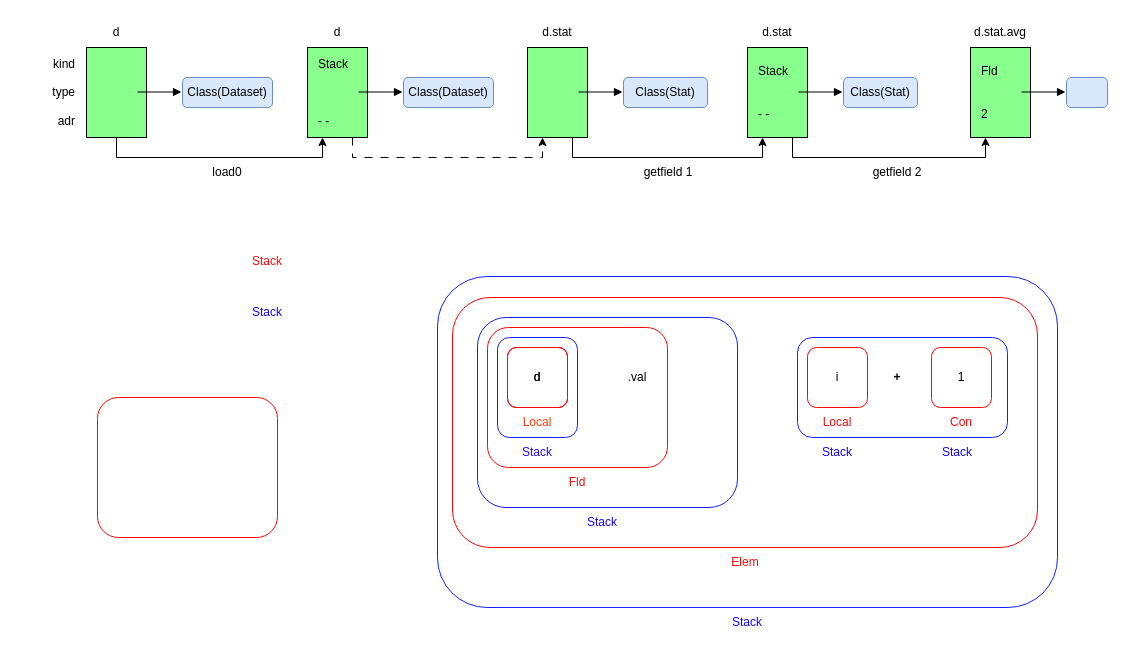
The diagram is 1125 pixels wide and 654 high, and some of its shapes have lost their labels. Each missing label, with the centre of its shape:
"Fld 1" belongs at (x=557, y=92).
"Int" belongs at (x=1087, y=92).
"Local 0" belongs at (x=116, y=92).
